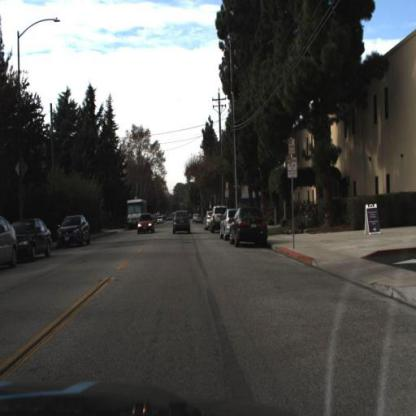car: (230, 202, 270, 251), (15, 215, 53, 264), (17, 219, 53, 259), (56, 213, 93, 251), (2, 213, 20, 273), (169, 204, 195, 238), (212, 201, 231, 237), (220, 206, 237, 244), (137, 222, 157, 239), (204, 206, 216, 232)
truck: (125, 194, 150, 234)
